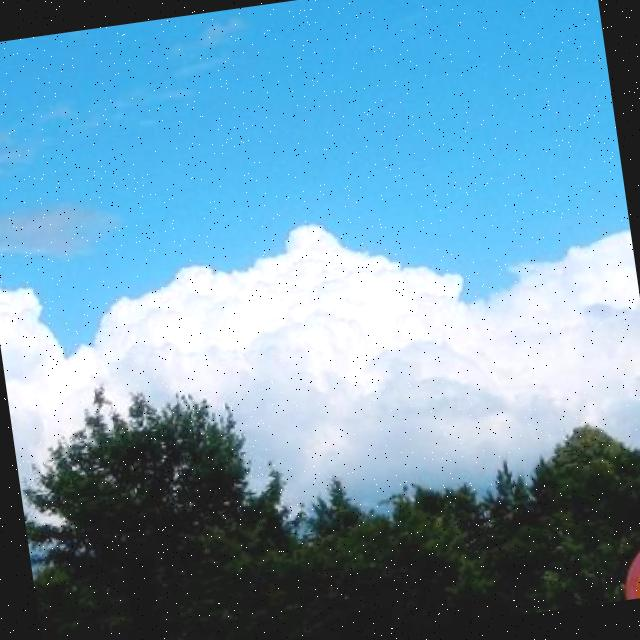Cu: (1, 63, 640, 455)
